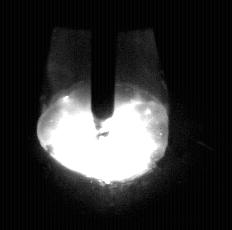arame: (91, 0, 116, 120)
poca: (36, 0, 169, 230)
